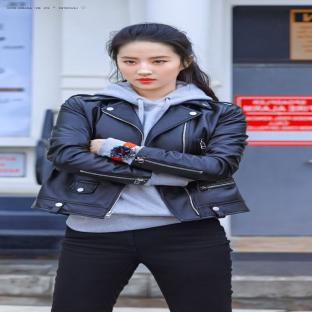Human: (34, 23, 248, 312)
